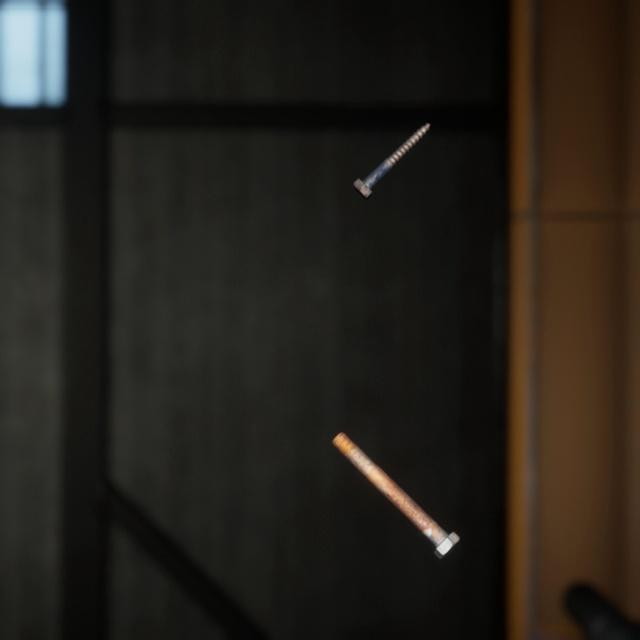bolt: (327, 407, 464, 542), (348, 106, 435, 191)
